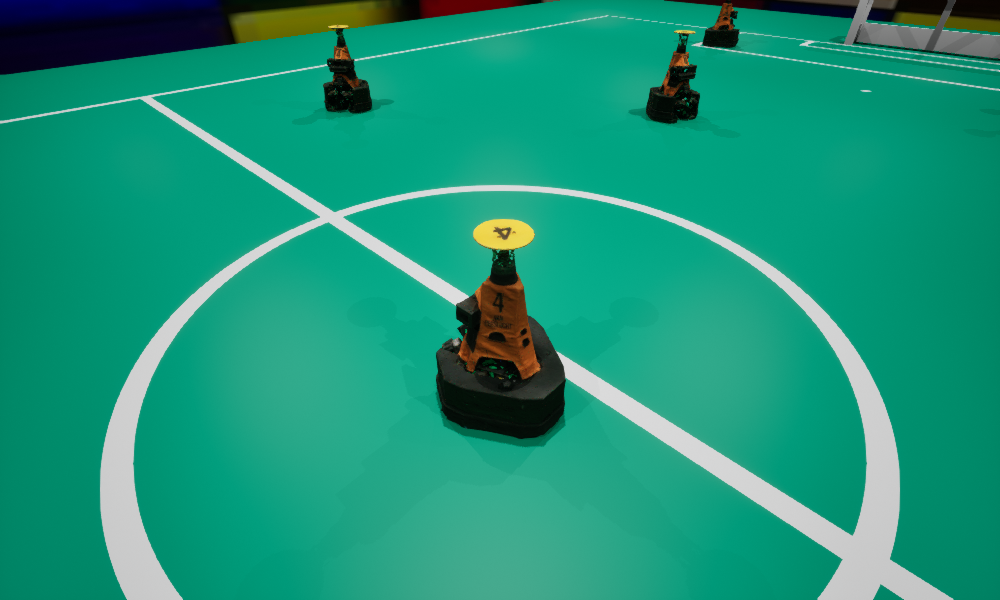o: (436, 219, 565, 438), (646, 30, 699, 123), (323, 25, 371, 112), (702, 0, 739, 47)
